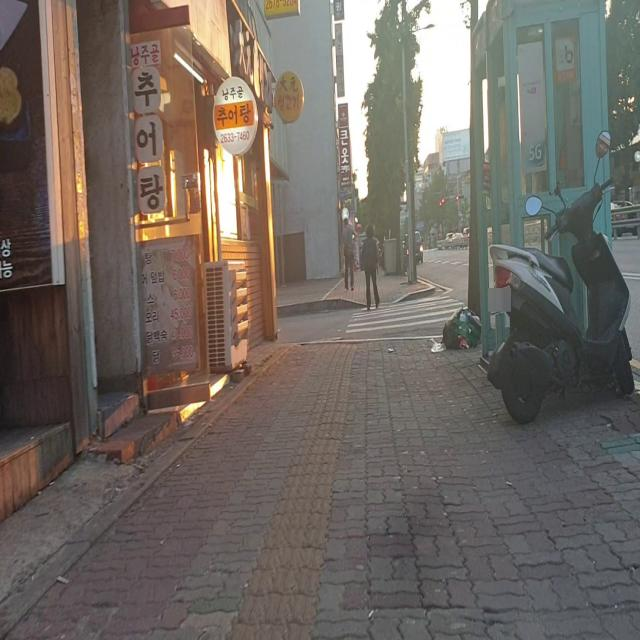횡단보도: (345, 294, 469, 335)
